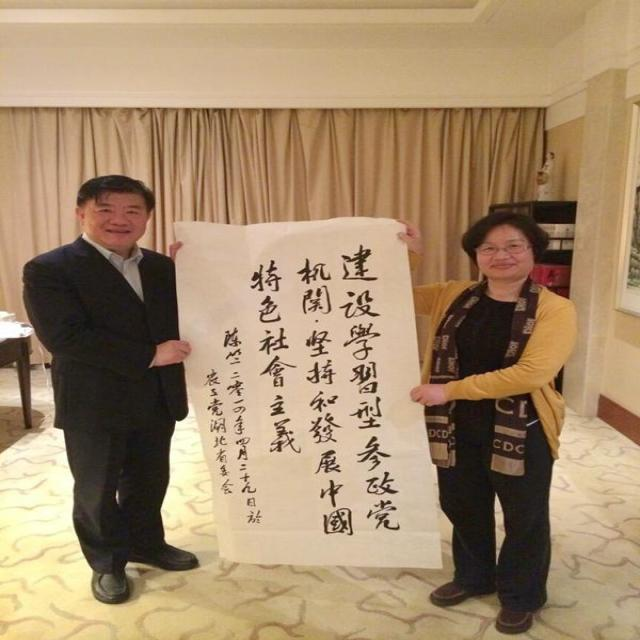obstacle: (0, 146, 227, 640), (400, 172, 590, 640)
